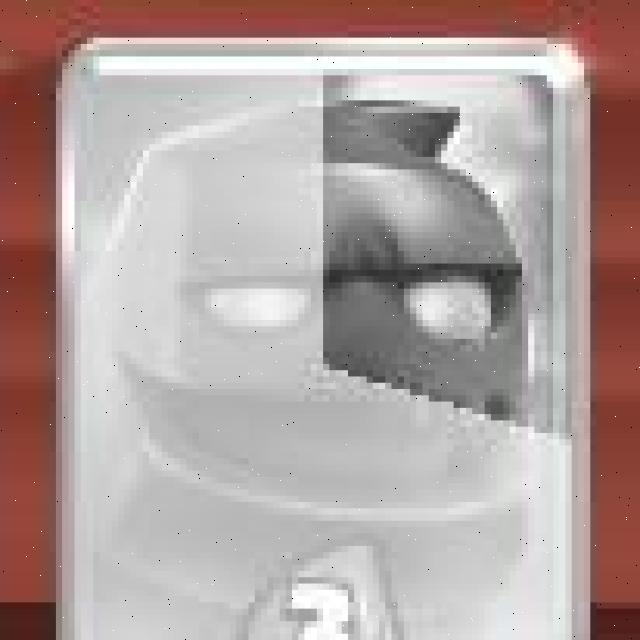Elixir_Golem: (53, 33, 593, 640)
